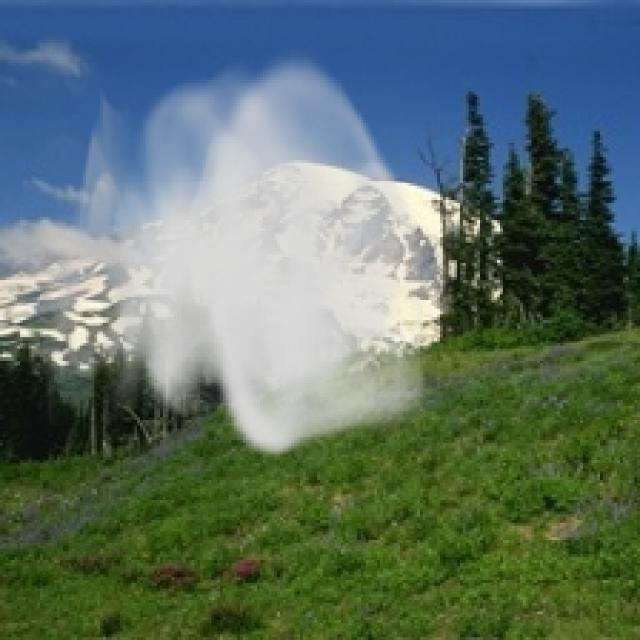smoke: (37, 46, 437, 460)
